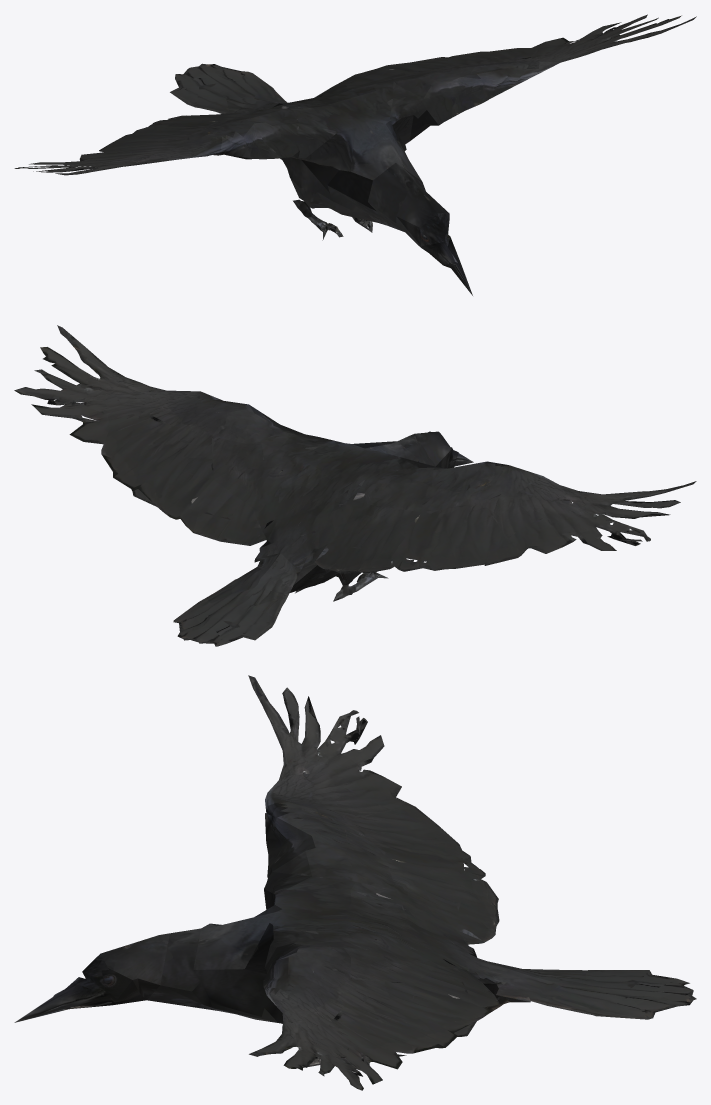
File: crow.fbx
The picture shows the model from 3 angles, top to bottom: view 1: azimuth 30°, elevation 25°; view 2: azimuth 150°, elevation 25°; view 3: azimuth 270°, elevation 25°; orthographic projection. The views are drawn at different scales.
Visible parts, largest first — view 1: temp; view 2: temp; view 3: temp.
Part boxes in pixels (x1=…): temp: x1=14, y1=14, x2=696, y2=295; temp: x1=14, y1=325, x2=696, y2=646; temp: x1=14, y1=675, x2=696, y2=1090.
Size of the model in its own units: 193 by 44.35 by 146.
